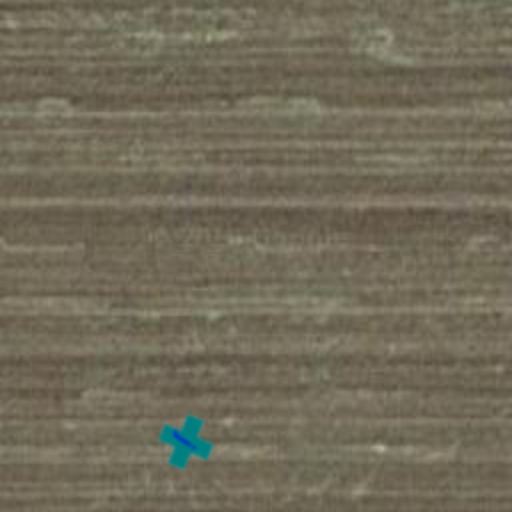cross: (150, 406, 222, 478)
